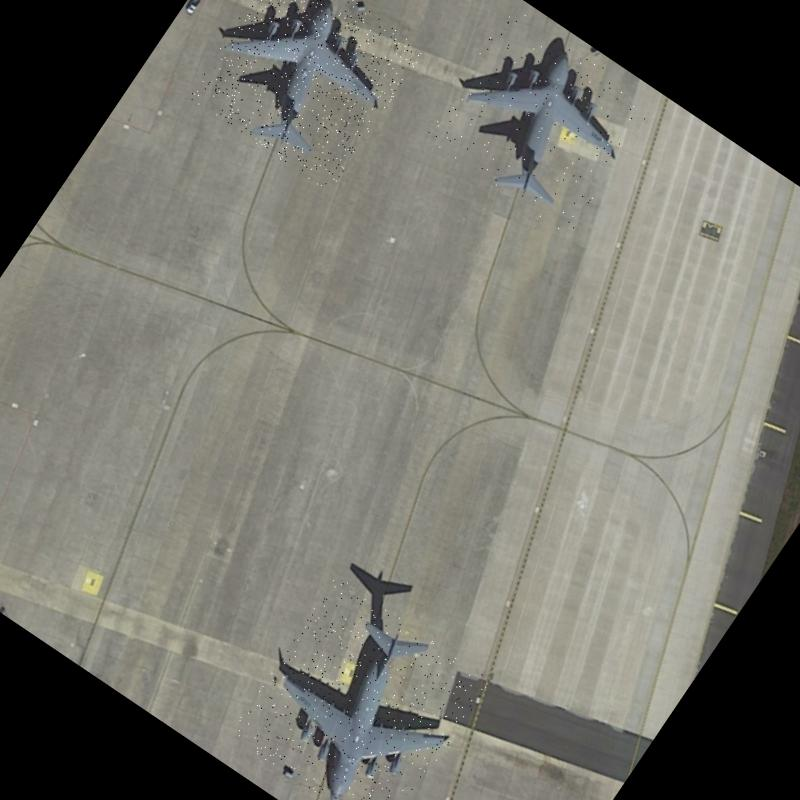A3: (228, 575, 492, 800), (422, 6, 657, 238), (186, 0, 425, 193)
